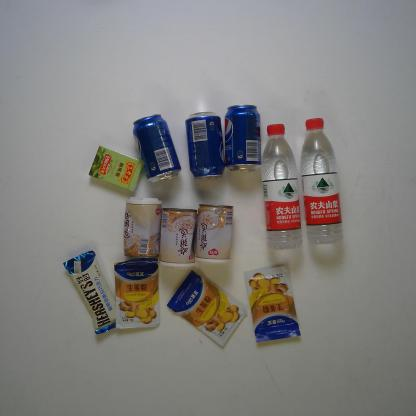Candy: (86, 144, 146, 194)
Canned Food: (122, 195, 163, 259), (156, 206, 198, 268), (194, 203, 234, 264)
Chocolate: (62, 250, 117, 335)
Drink: (259, 123, 304, 251), (300, 116, 344, 246), (132, 113, 182, 184), (184, 110, 226, 181), (223, 103, 262, 173)
Seasoner: (165, 270, 250, 348), (243, 265, 301, 344), (112, 257, 160, 329)
